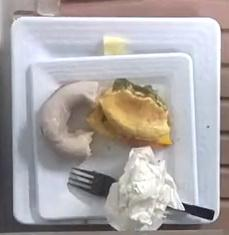burger: (99, 78, 172, 146)
